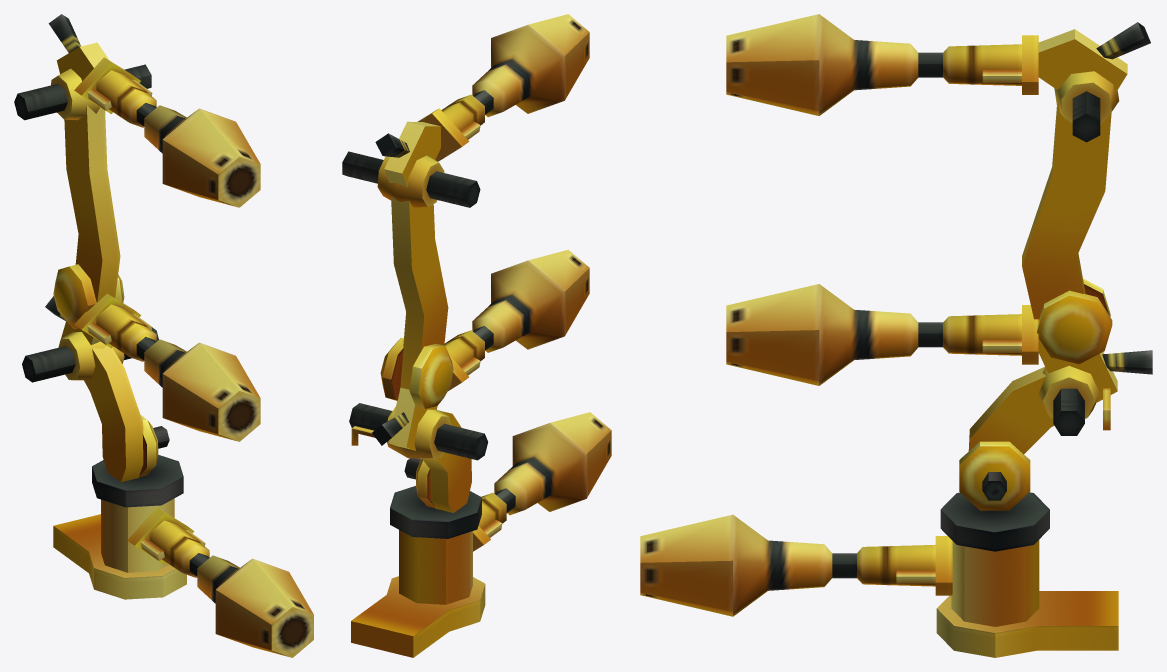
The model's file is act_firegun2.FBX.
3 renders of one model, left to right at view 1: azimuth 30°, elevation 25°; view 2: azimuth 150°, elevation 25°; view 3: azimuth 270°, elevation 25°, orthographic. The views are drawn at different scales.
Parts seen in each view (by area): view 1: act_firegun2; view 2: act_firegun2; view 3: act_firegun2.
Boxes of the visible parts, <box> form: act_firegun2: <box>14,14,313,657</box>; act_firegun2: <box>342,14,611,657</box>; act_firegun2: <box>640,14,1152,657</box>.
Bounding box in the file's own units: 47.23 × 192 × 146.
